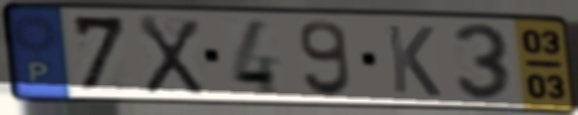3: (450, 21, 515, 103)
4: (224, 17, 287, 97)
7: (71, 13, 130, 94)
9: (297, 18, 354, 100)
K: (382, 22, 444, 100)
X: (135, 13, 206, 98)
